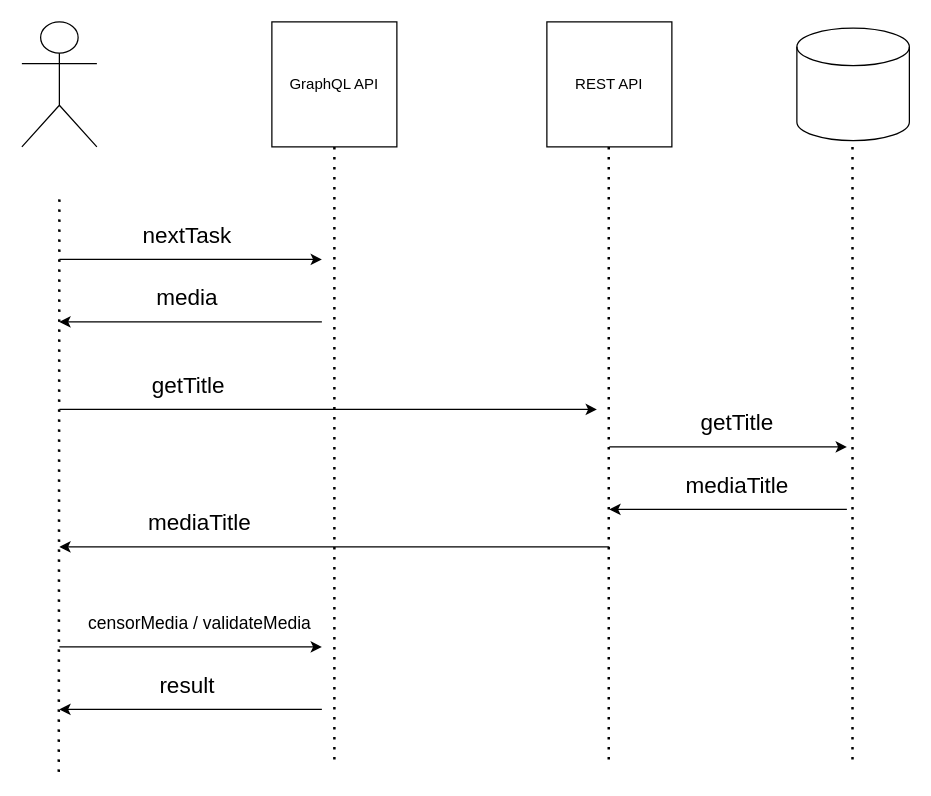
The diagram is 931 pixels wide and 796 high, and some of its shapes have lost their labels. Each missing label, with the box of its shape:
Client: (21, 21, 97, 147)
Dailymotion Database: (796, 27, 909, 141)
